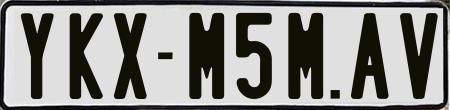5: (234, 13, 274, 103)
A: (350, 11, 391, 100)
K: (68, 12, 101, 99)
M: (288, 10, 329, 98), (187, 13, 226, 103)
V: (400, 10, 437, 96)
X: (114, 12, 149, 98)
Y: (20, 11, 58, 102)
